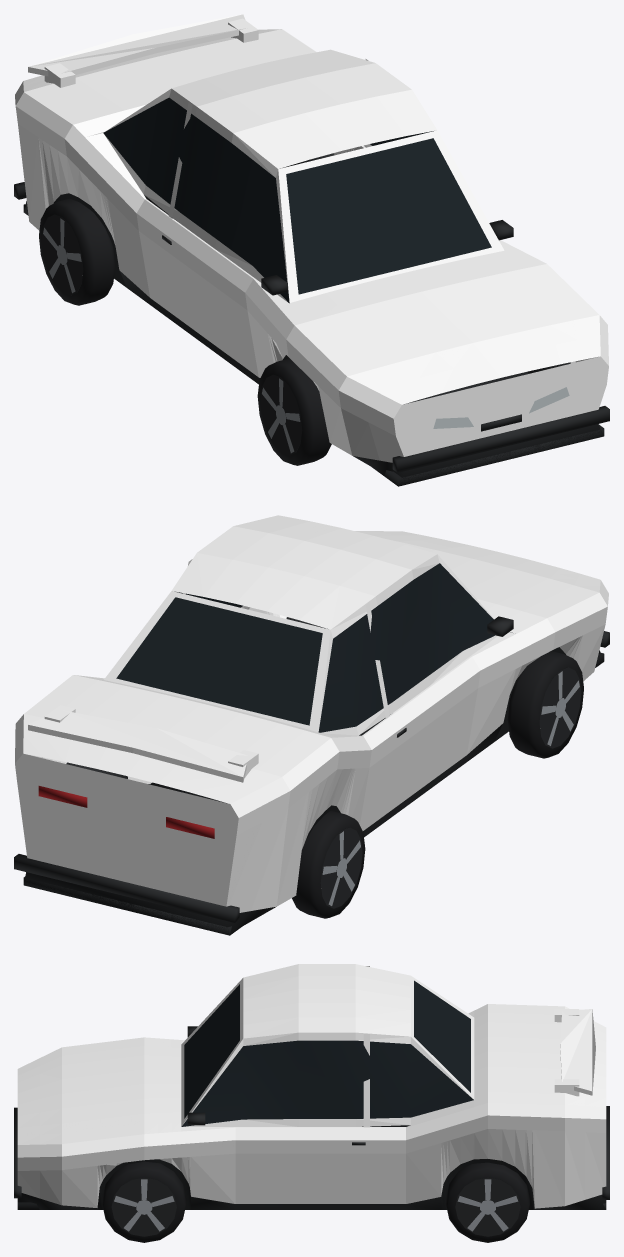
The model's file is varenna_galho.glb.
3 views of the same model, one above another, from view 1: azimuth 30°, elevation 25°; view 2: azimuth 150°, elevation 25°; view 3: azimuth 270°, elevation 25° (orthographic). The views are drawn at different scales.
Parts seen in each view (by area): view 1: Body_Paint, Body_Details, Mount_RearLeft_Wheel_Details, Mount_FrontLeft_Wheel_Details; view 2: Body_Paint, Body_Details, Mount_FrontLeft_Wheel_Details, Mount_RearLeft_Wheel_Details; view 3: Body_Paint, Body_Details, Mount_FrontRight_Wheel_Details, Mount_RearRight_Wheel_Details.
Boxes of the visible parts, left/top/right/bottom form: Body_Paint: left=15, top=14, right=608, bottom=462; Body_Details: left=14, top=97, right=609, bottom=486; Mount_RearLeft_Wheel_Details: left=39, top=198, right=115, bottom=305; Mount_FrontLeft_Wheel_Details: left=257, top=358, right=331, bottom=465; Body_Paint: left=15, top=515, right=608, bottom=912; Body_Details: left=14, top=563, right=609, bottom=935; Mount_FrontLeft_Wheel_Details: left=507, top=651, right=583, bottom=758; Mount_RearLeft_Wheel_Details: left=292, top=811, right=365, bottom=918; Body_Paint: left=17, top=964, right=606, bottom=1208; Body_Details: left=14, top=980, right=609, bottom=1209; Mount_FrontRight_Wheel_Details: left=102, top=1161, right=186, bottom=1242; Mount_RearRight_Wheel_Details: left=446, top=1162, right=529, bottom=1242.
Bounding box in the file's own units: 1.85 × 1.57 × 4.34.
2 materials, 1 textured.
